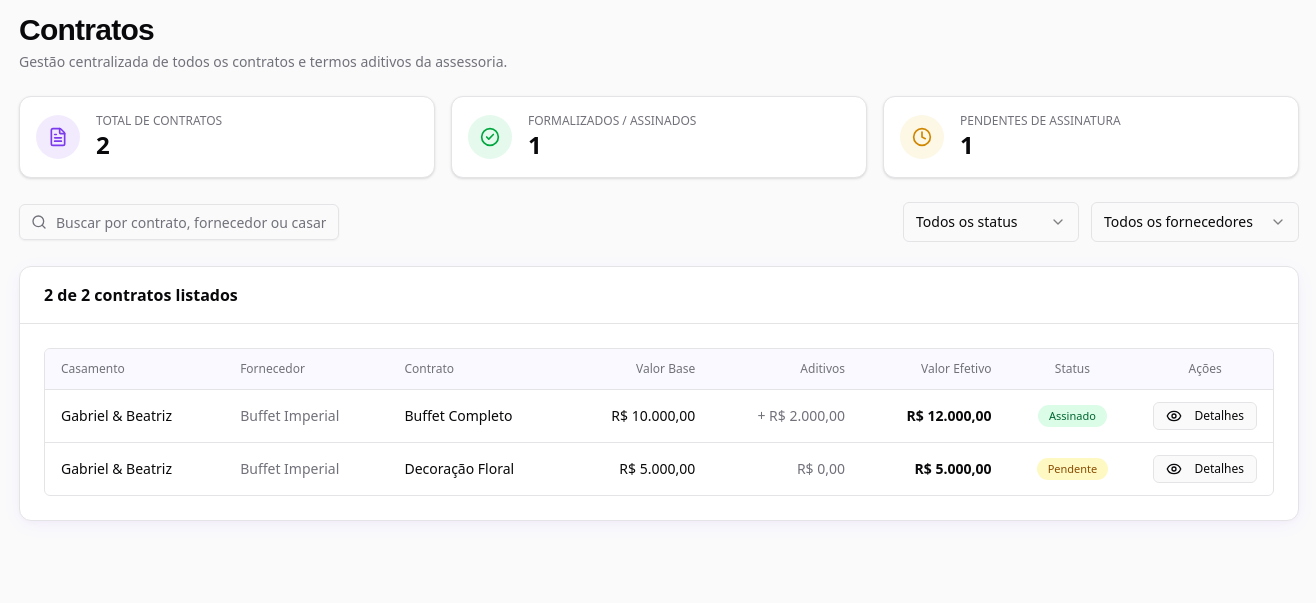
Test: ContractsGlobalPage › exibe estado vazio quando nenhum contrato coincide com a busca
The image size is (1316, 603).
Expected: the text "Buffet Completo" is shown, [388,390,566,442]
Type "Inexistente" into the field with placeholder "Buscar por contrato, fornecedor ou casamento..." at (179, 222), box [19,204,339,240]
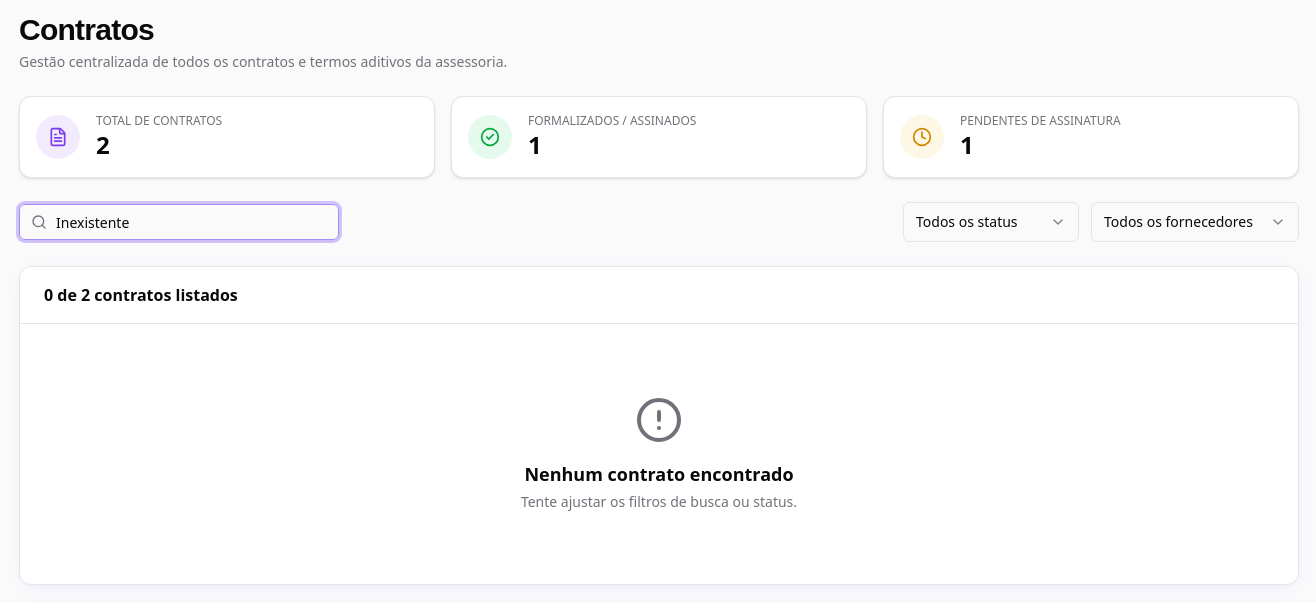
Now the heading "Nenhum contrato encontrado" is shown, box [524,460,794,488]
